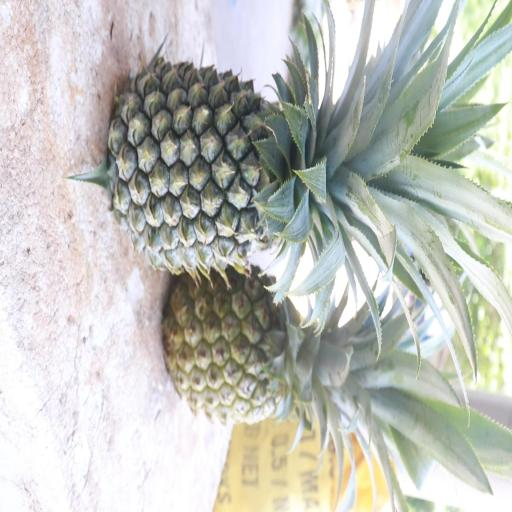------------------------------: (158, 246, 390, 424)
